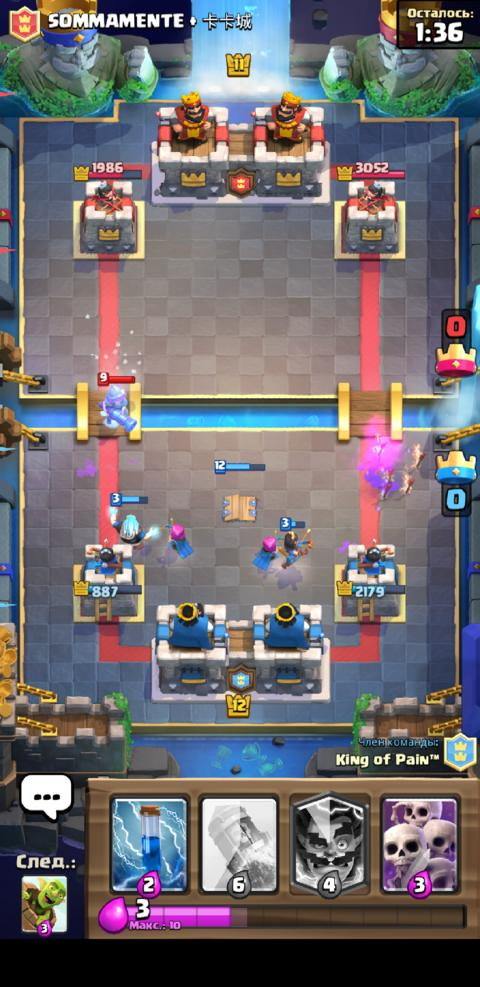ally_archer: (160, 516, 194, 559), (250, 529, 283, 572)
ally_ice_wizard: (106, 491, 160, 547)
ally_princess: (277, 515, 314, 568)
ally_tesla_hidden: (211, 456, 266, 523)
enemy_musketeer: (94, 370, 138, 434)
